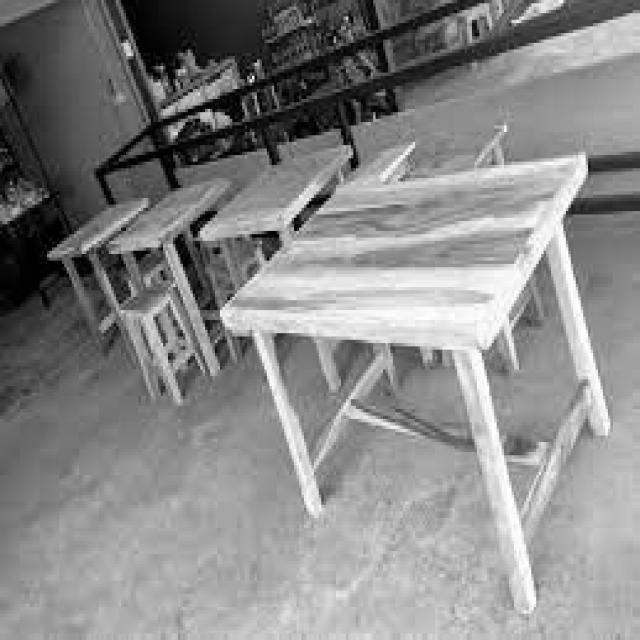table: (210, 166, 534, 350), (194, 148, 327, 228), (48, 186, 144, 269), (456, 166, 490, 168)
